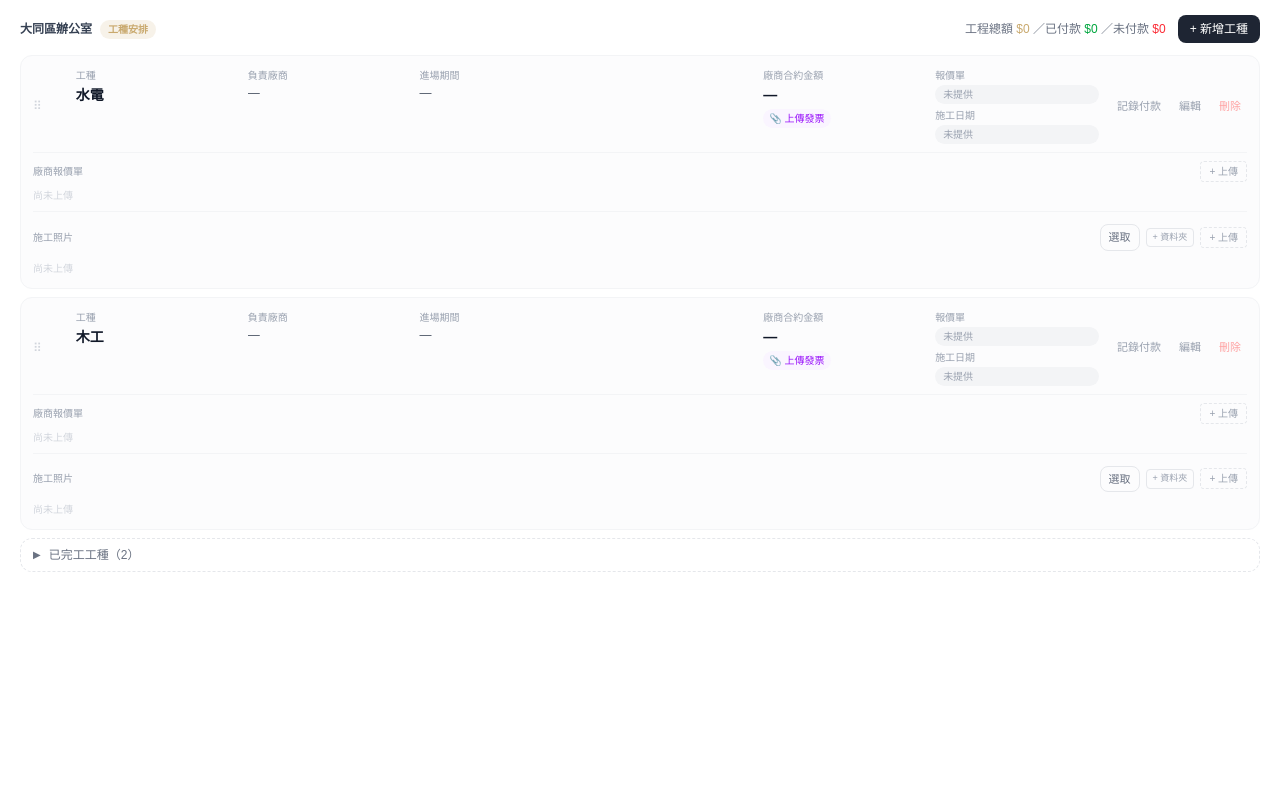
it: WorkTypePanel — 已完工收合 › 點擊收合列展開後，已完工工種的卡片會顯示出來
Step 1. Click the button "▶ 已完工工種（2）" → (94, 555), box 20,538 -> 1260,572
(page scrolled)
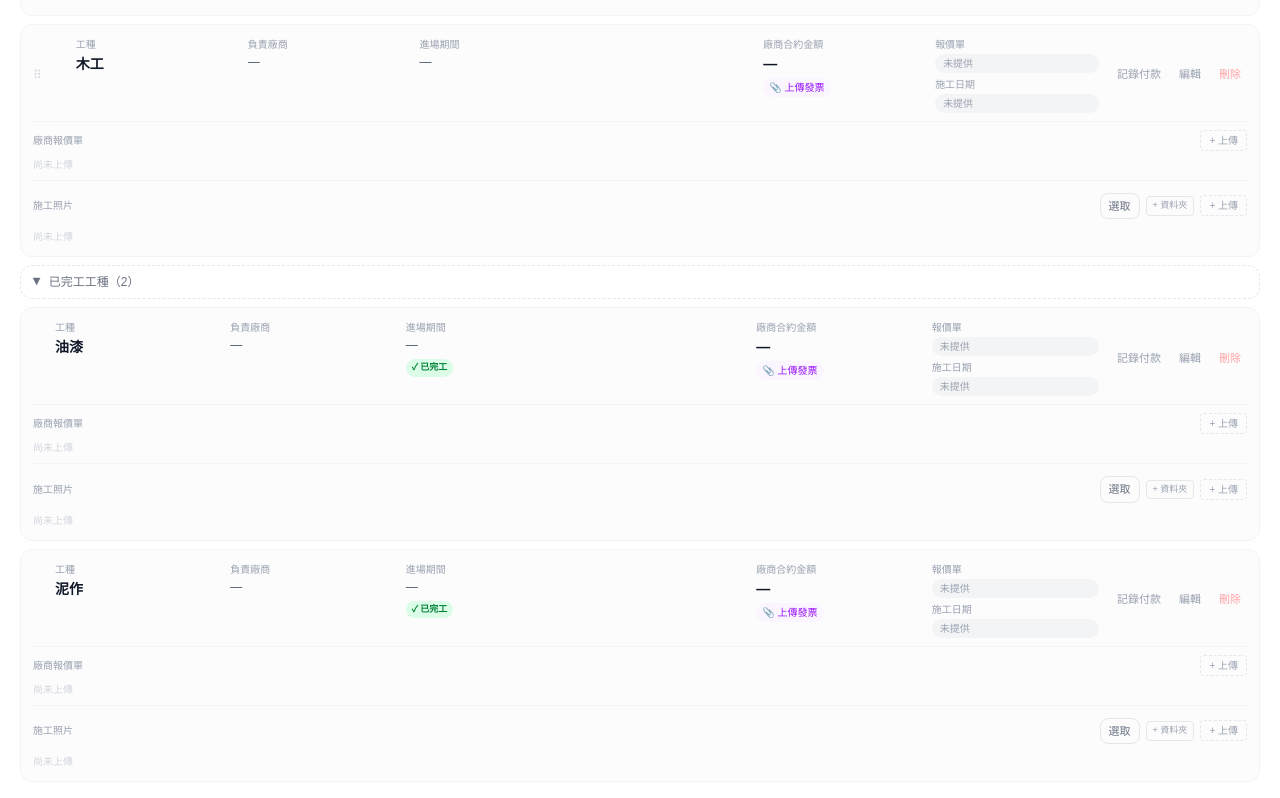
Check: the element with id "worktype-card-wt_b" is shown, box 20,307 -> 1260,540
Check: the element with id "worktype-card-wt_d" is shown, box 20,548 -> 1260,782
